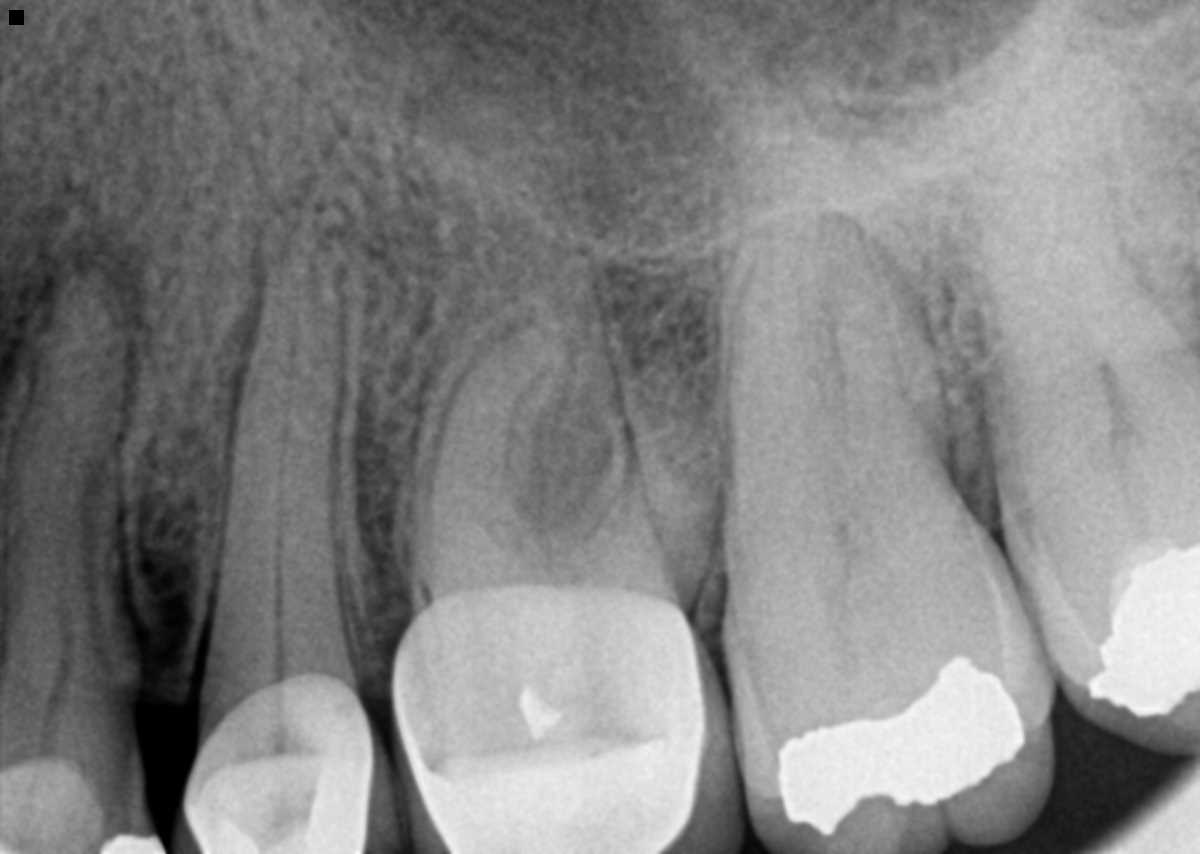Apical Lesion: (13, 185, 153, 348), (580, 258, 723, 403), (210, 298, 259, 426)
Distal Root: (582, 355, 729, 608), (818, 214, 951, 490)
Main Canal: (273, 299, 301, 670), (56, 532, 80, 666)
Main Root: (975, 56, 1194, 468), (207, 206, 354, 679), (0, 291, 143, 676)
Mesial Root: (731, 239, 859, 559), (424, 326, 555, 572)
Palatal Root: (714, 95, 944, 546)
